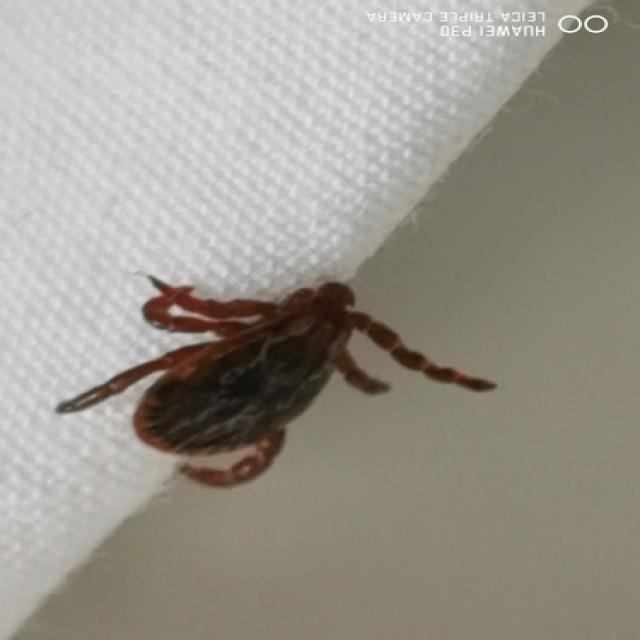Dermacentor Reticulatus-M: (56, 279, 493, 486)
